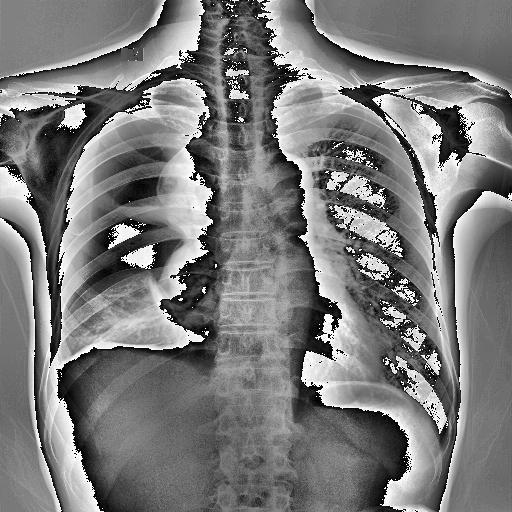1- Atelectasis: (144, 276, 202, 344)
10- Pleural effusion: (44, 343, 91, 398)
11- Pleural thickening: (44, 343, 91, 398)
12- Pneumothorax: (48, 74, 214, 364), (49, 79, 215, 320), (59, 78, 217, 319)
